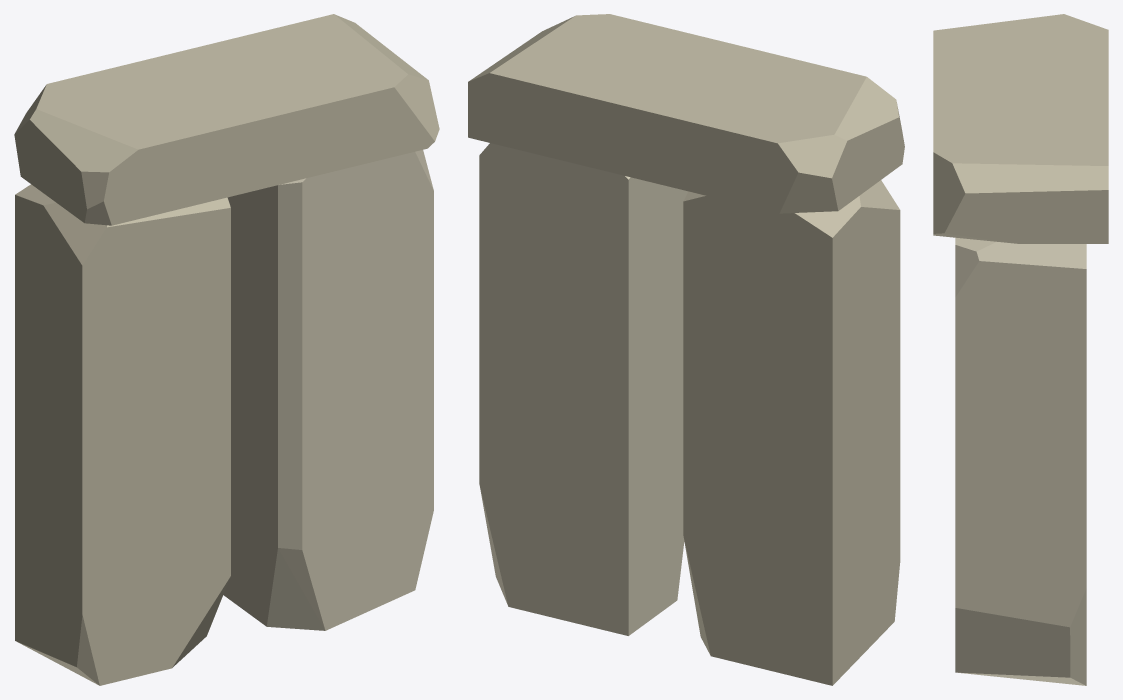
The model's file is Stonehenge_02.fbx.
3 renders of one model, left to right at view 1: azimuth 30°, elevation 25°; view 2: azimuth 150°, elevation 25°; view 3: azimuth 270°, elevation 25°, orthographic. The views are drawn at different scales.
Parts seen in each view (by area): view 1: Stonehenge_02; view 2: Stonehenge_02; view 3: Stonehenge_02.
Part boxes in pixels (box(x1,y1,x2,y2)): Stonehenge_02: box(14, 14, 439, 685); Stonehenge_02: box(468, 14, 904, 685); Stonehenge_02: box(933, 14, 1108, 685).
Bounding box in the file's own units: 4.5 × 6.58 × 2.
